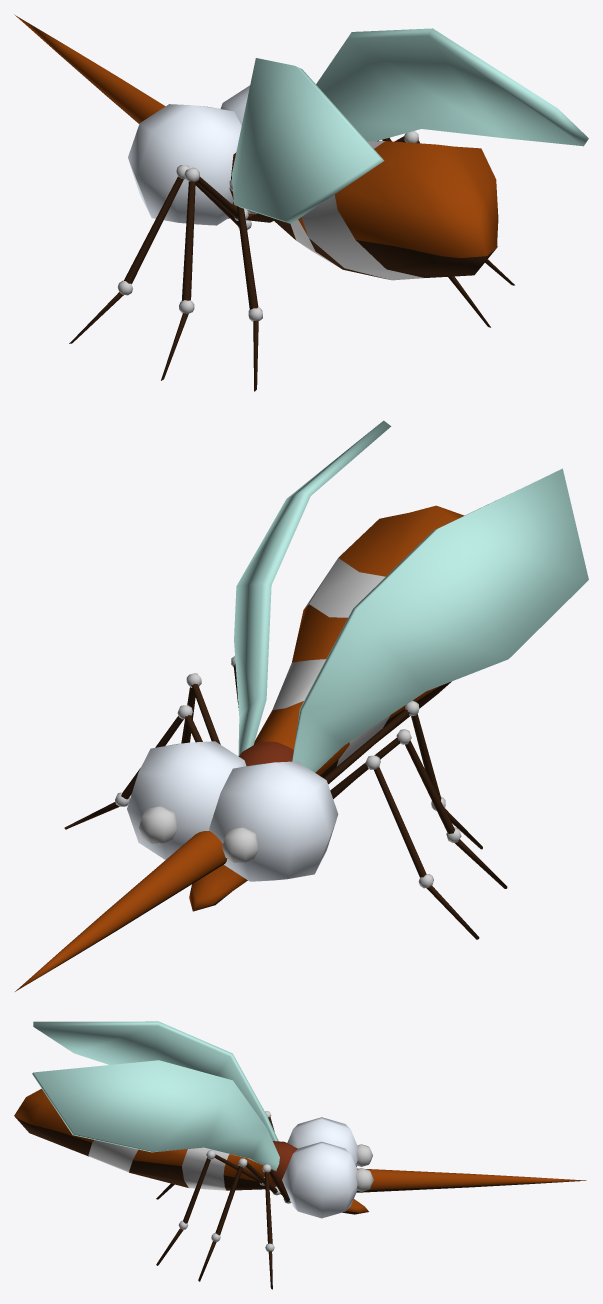
The model's file is MosquitoV5.fbx.
3 renders of one model, top to bottom at view 1: azimuth 30°, elevation 25°; view 2: azimuth 150°, elevation 25°; view 3: azimuth 270°, elevation 25°, orthographic. The views are drawn at different scales.
Visible parts, largest first — view 1: Mosquito, Wings, Articulations.001; view 2: Wings, Mosquito, Articulations.001; view 3: Wings, Mosquito, Articulations.001.
Part boxes in pixels (bbox=[...]): Mosquito: bbox=[14, 14, 514, 391]; Wings: bbox=[231, 28, 588, 223]; Articulations.001: bbox=[117, 131, 423, 321]; Wings: bbox=[234, 420, 588, 772]; Mosquito: bbox=[15, 505, 507, 991]; Articulations.001: bbox=[115, 558, 461, 888]; Wings: bbox=[32, 1021, 279, 1171]; Mosquito: bbox=[14, 1088, 586, 1289]; Articulations.001: bbox=[88, 1111, 373, 1251].
Bounding box in the file's own units: 873 × 636 × 1717.
